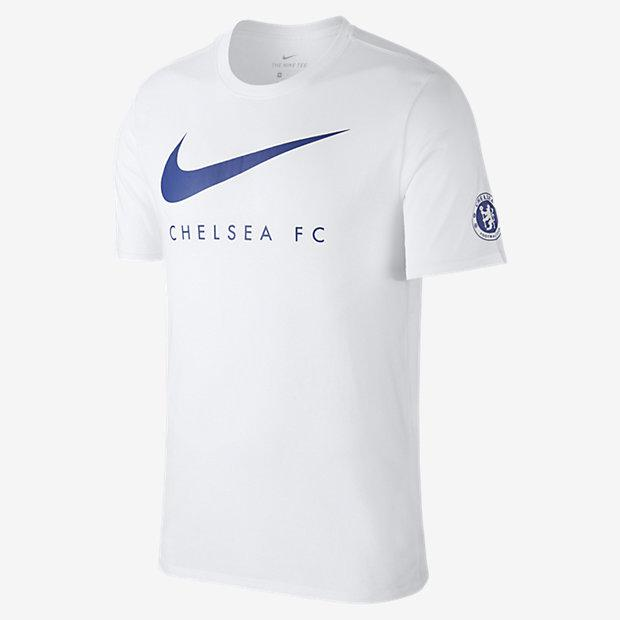teeshirt: (105, 11, 554, 593)
